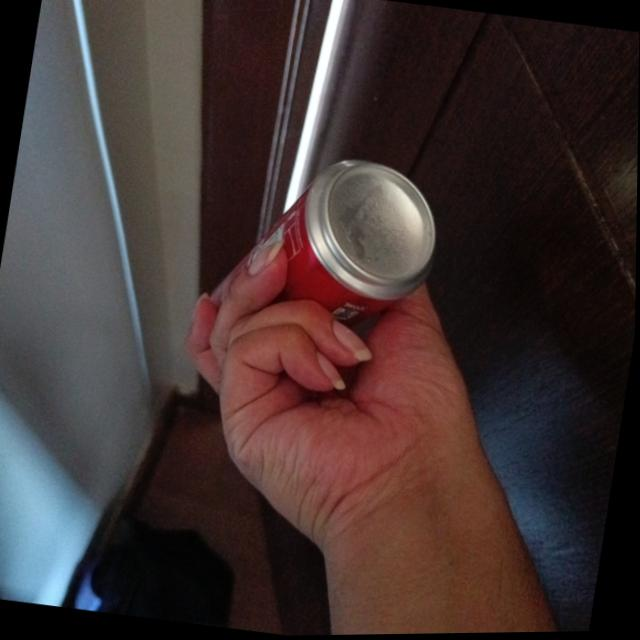coke: (202, 138, 450, 362)
